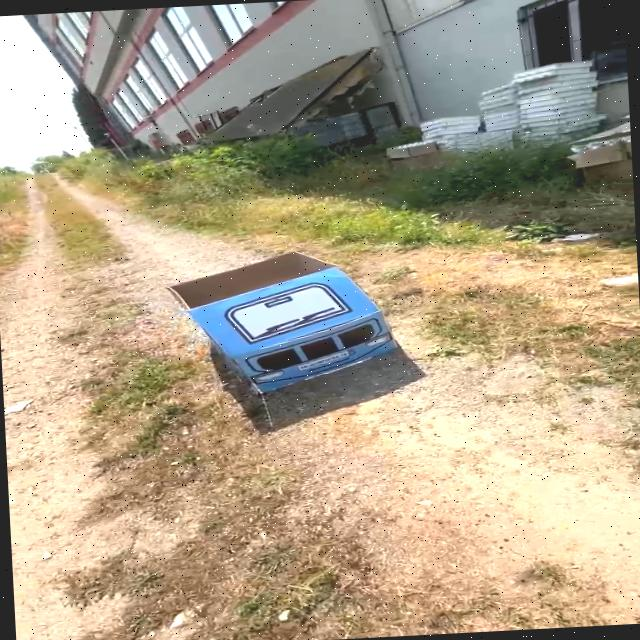blue_car: (153, 231, 426, 406)
